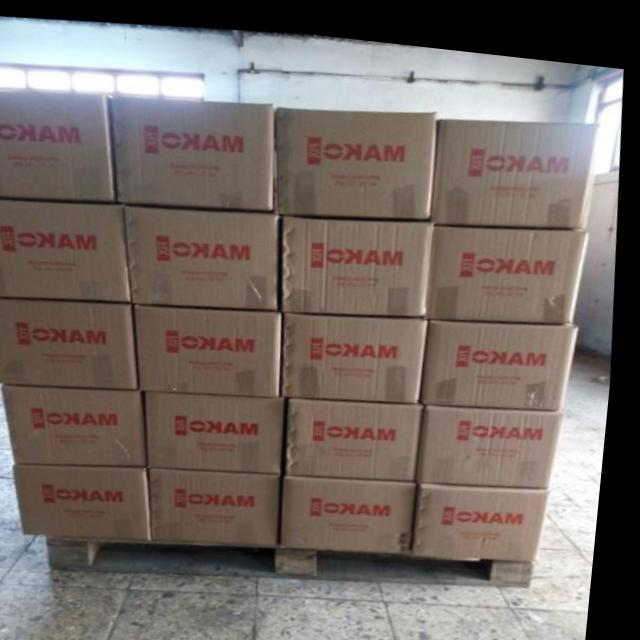box: (109, 92, 277, 205), (277, 100, 438, 210), (438, 109, 600, 212), (129, 202, 283, 303), (433, 213, 591, 310), (284, 208, 436, 306), (428, 309, 584, 399), (0, 200, 136, 298), (138, 301, 287, 390), (0, 297, 148, 386), (0, 89, 119, 198), (289, 308, 430, 393), (425, 395, 569, 476), (9, 385, 155, 462), (292, 390, 428, 470), (153, 388, 291, 466), (22, 461, 162, 536), (287, 468, 424, 544), (156, 461, 288, 539), (420, 474, 555, 548)
